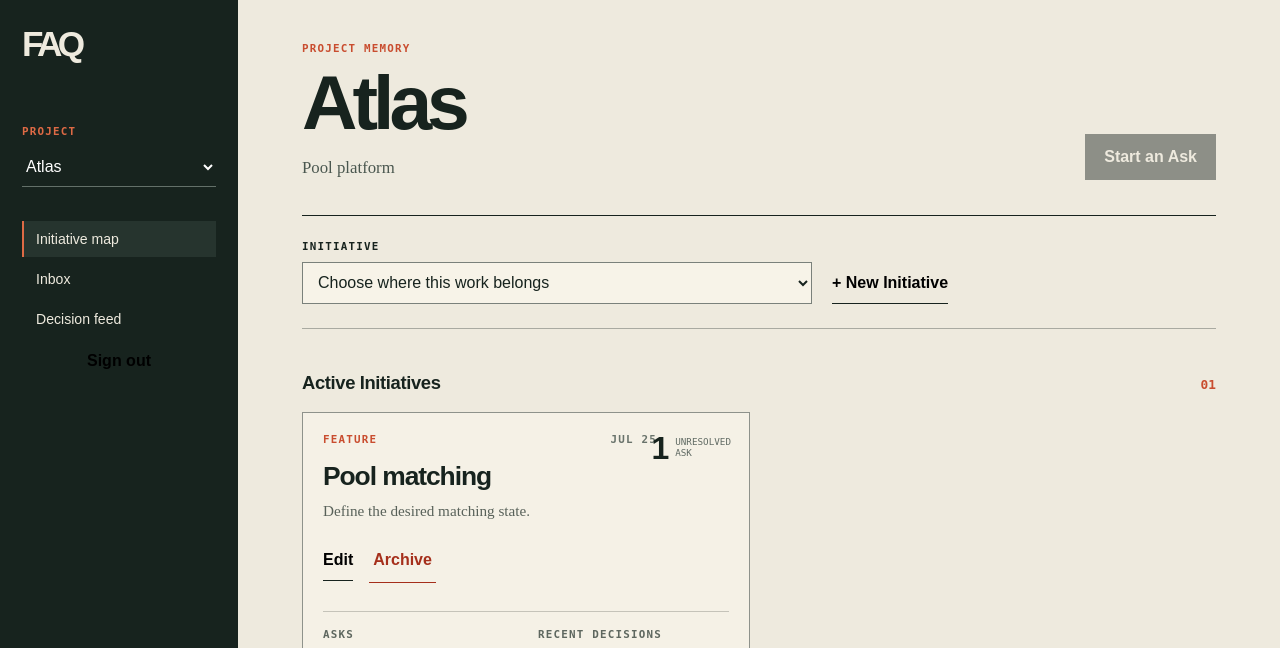
project workspace › surfaces an active-name conflict inline
The image size is (1280, 648).
expect the heading "Atlas" is shown: met, box [302,68,465,137]
Click the button "+ New Initiative" at (890, 283), box [832,262,948,304]
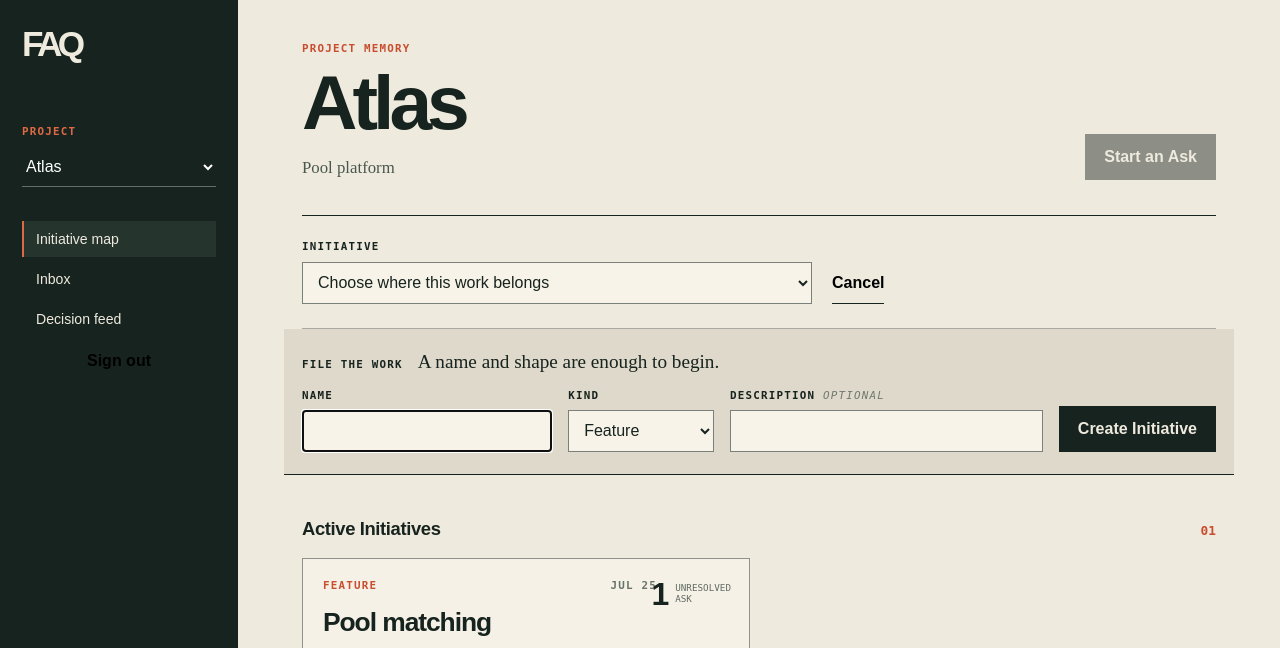
Type "Pool matching" into the field labelled "Name" at (427, 431), box [302,410,552,452]
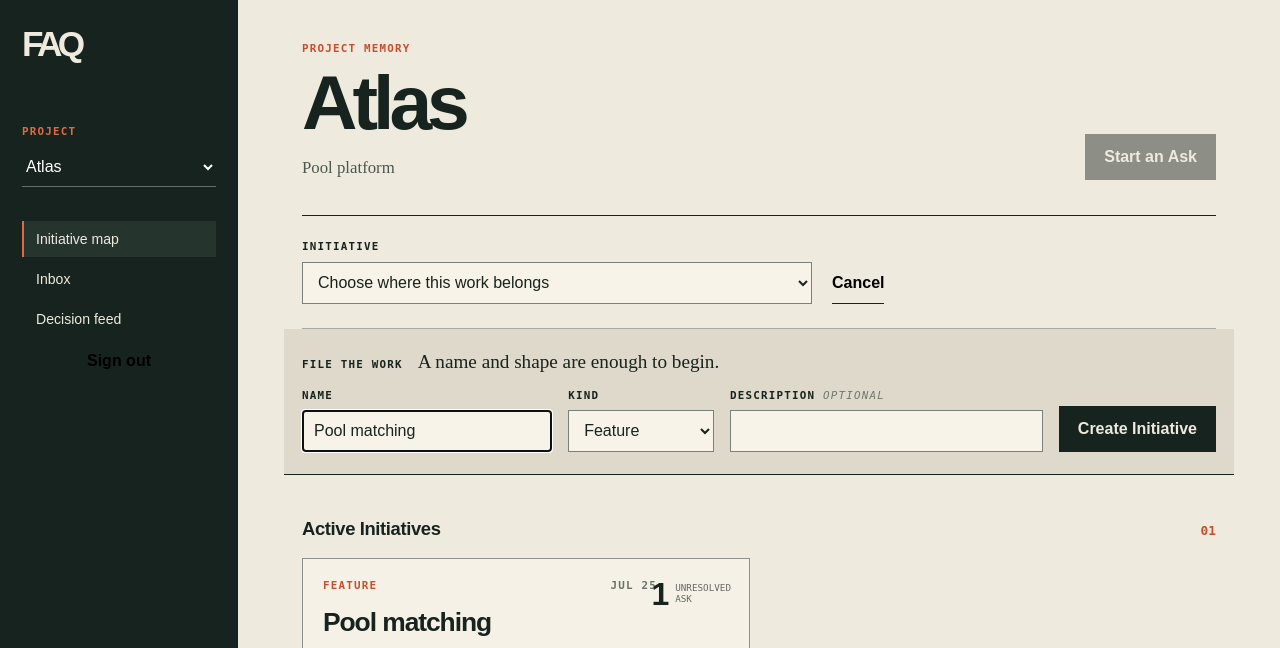
Click the button "Create Initiative" at (1137, 429), box [1059,406,1216,452]
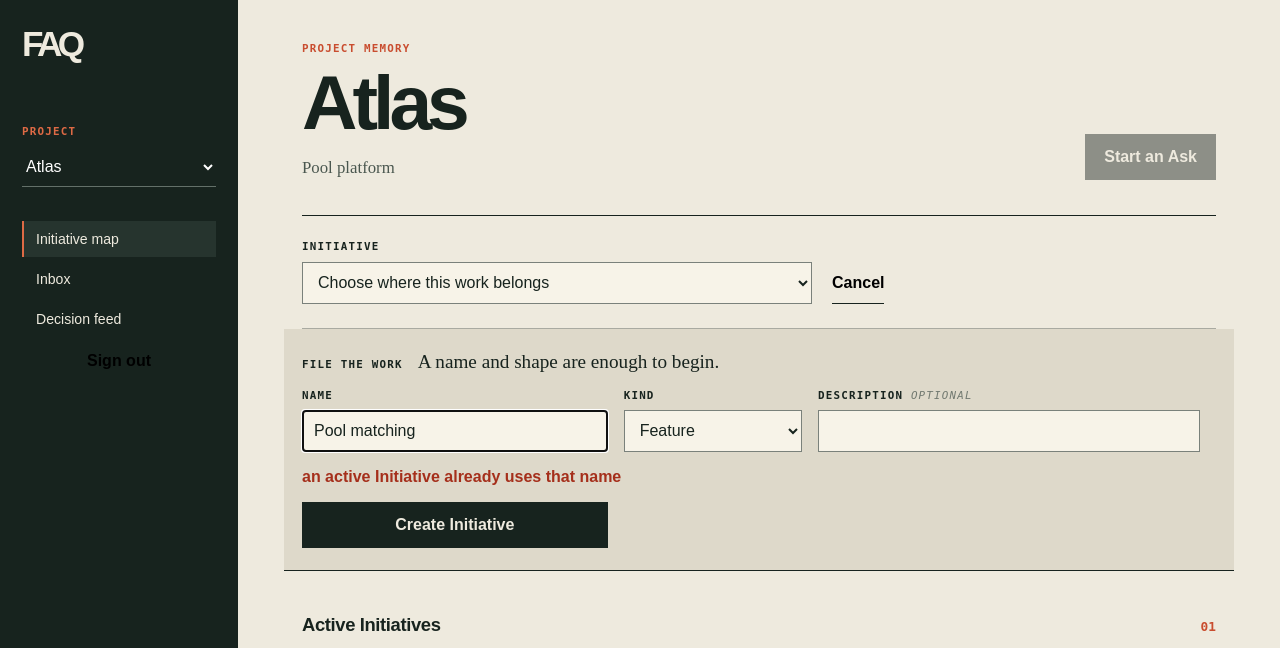
expect the message shows "already uses that name": met, box [302,468,621,485]
